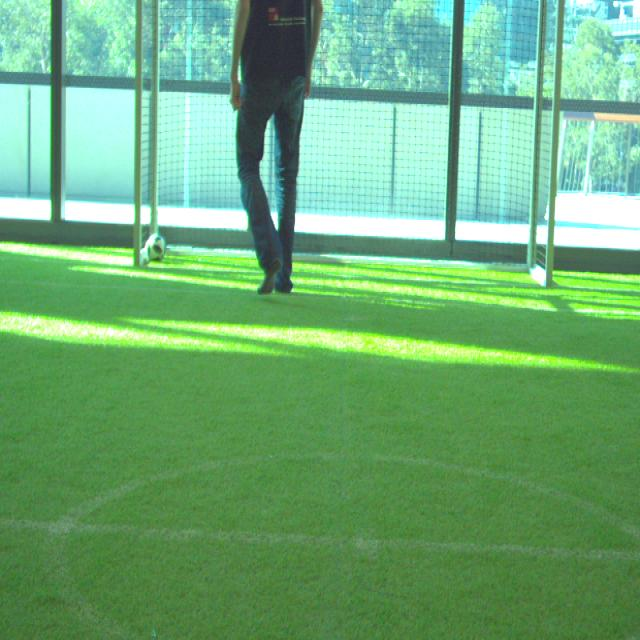ball: (145, 232, 167, 261)
goalpost: (543, 0, 565, 284), (132, 0, 144, 264)
